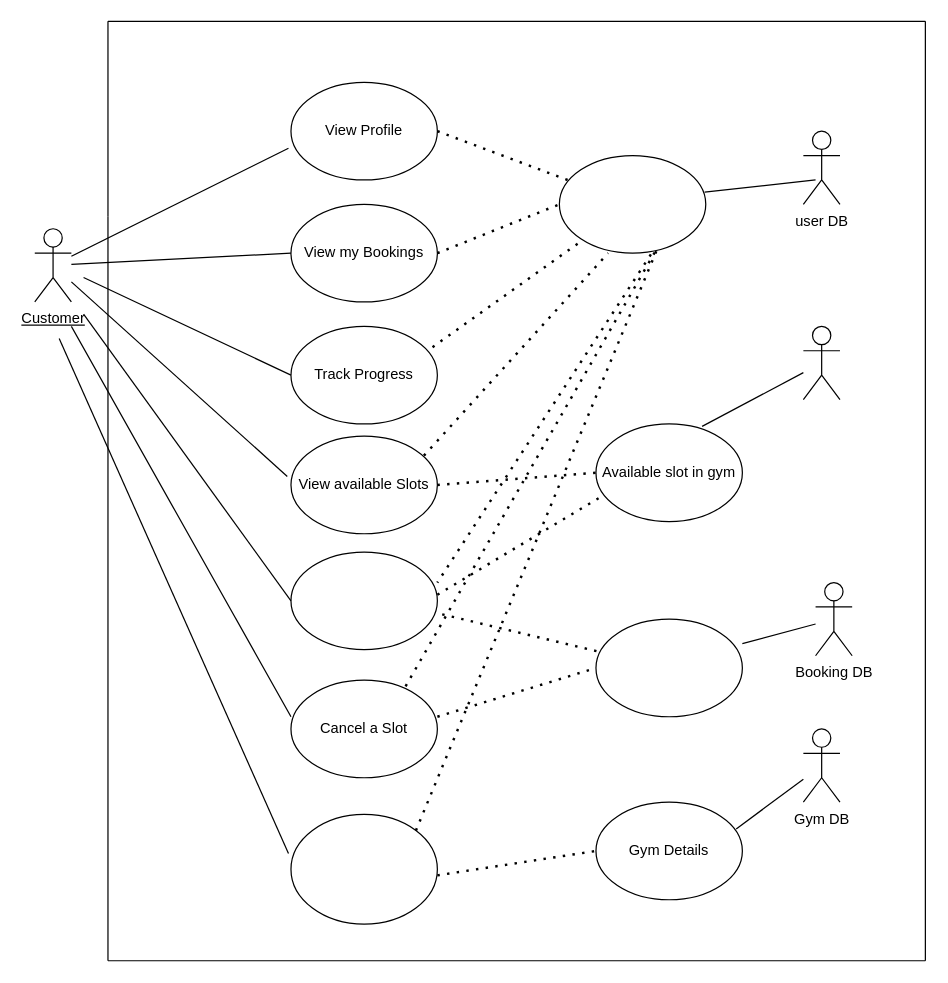
This 948x983 diagram has some shape labels left out. Each missing label, with the centre of its shape:
"Booking a Slot" belongs at pixel 363 600.
"Credential Verification" belongs at pixel 632 203.
"Customer Booking details" belongs at pixel 668 667.
"Gym Centre Details" belongs at pixel 363 868.
"slot DB" belongs at pixel 821 362.
